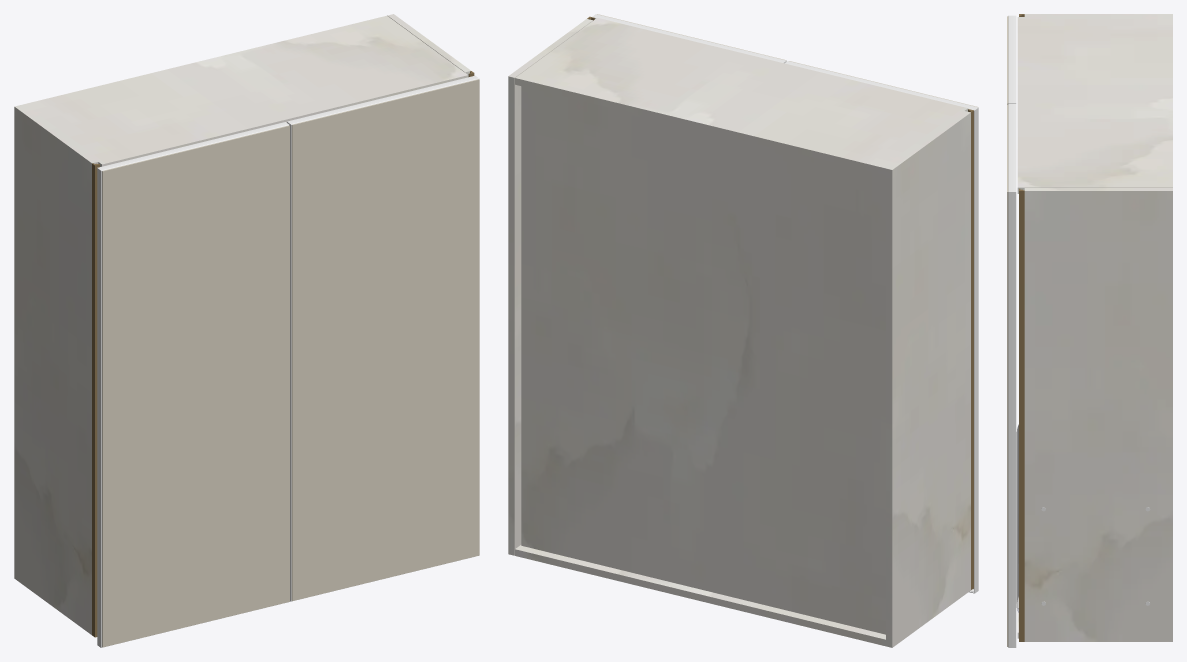
File: WDC2GS2HS (H1085xW900xD336).glb
3 renders of one model, left to right at view 1: azimuth 30°, elevation 25°; view 2: azimuth 150°, elevation 25°; view 3: azimuth 270°, elevation 25°, orthographic. The views are drawn at different scales.
Size of what is drawn, in the model's own units: 0.901 by 1.09 by 0.3569.
Materials: 11 (2 with a texture image).
